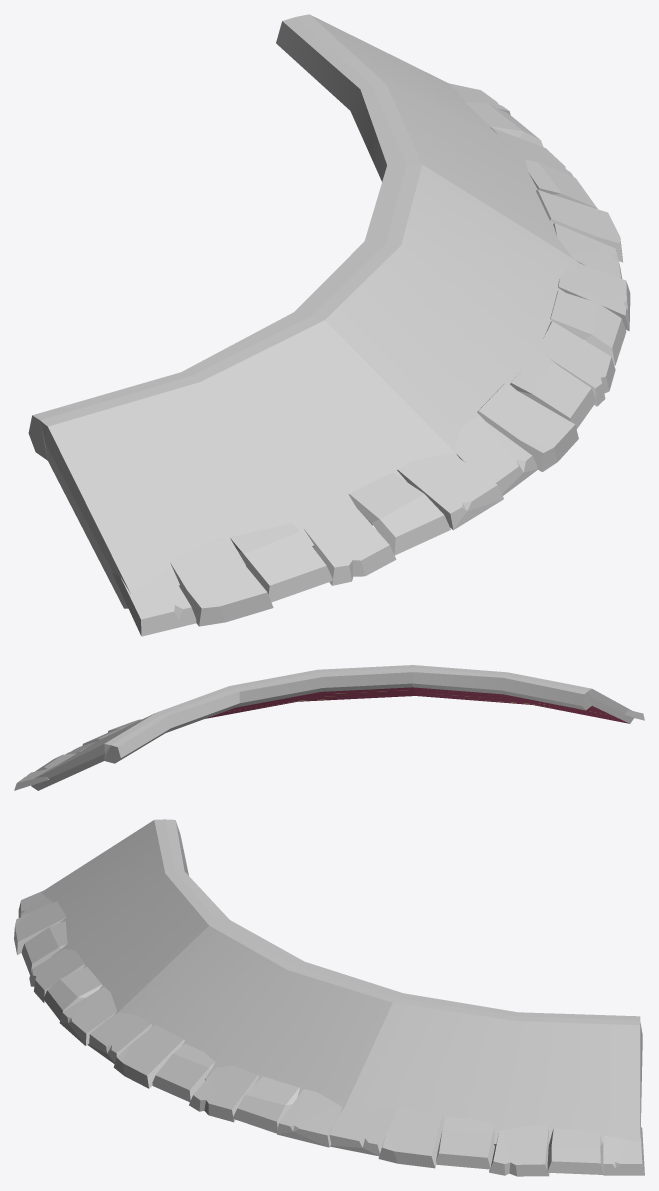
Rendered from SM_Bld_Roof_Trim_Corner_Out_03.fbx.
The picture shows the model from 3 angles, top to bottom: view 1: azimuth 30°, elevation 25°; view 2: azimuth 150°, elevation 25°; view 3: azimuth 270°, elevation 25°; orthographic projection. The views are drawn at different scales.
Visible parts, largest first — view 1: SM_Bld_Roof_Trim_Corner_Out_03; view 2: SM_Bld_Roof_Trim_Corner_Out_03; view 3: SM_Bld_Roof_Trim_Corner_Out_03.
Boxes of the visible parts, box(x1,y1,x2,y2) form: SM_Bld_Roof_Trim_Corner_Out_03: box(28, 14, 630, 636); SM_Bld_Roof_Trim_Corner_Out_03: box(14, 665, 644, 790); SM_Bld_Roof_Trim_Corner_Out_03: box(14, 819, 644, 1176).
Size of the model in its own units: 662 by 112 by 664.
